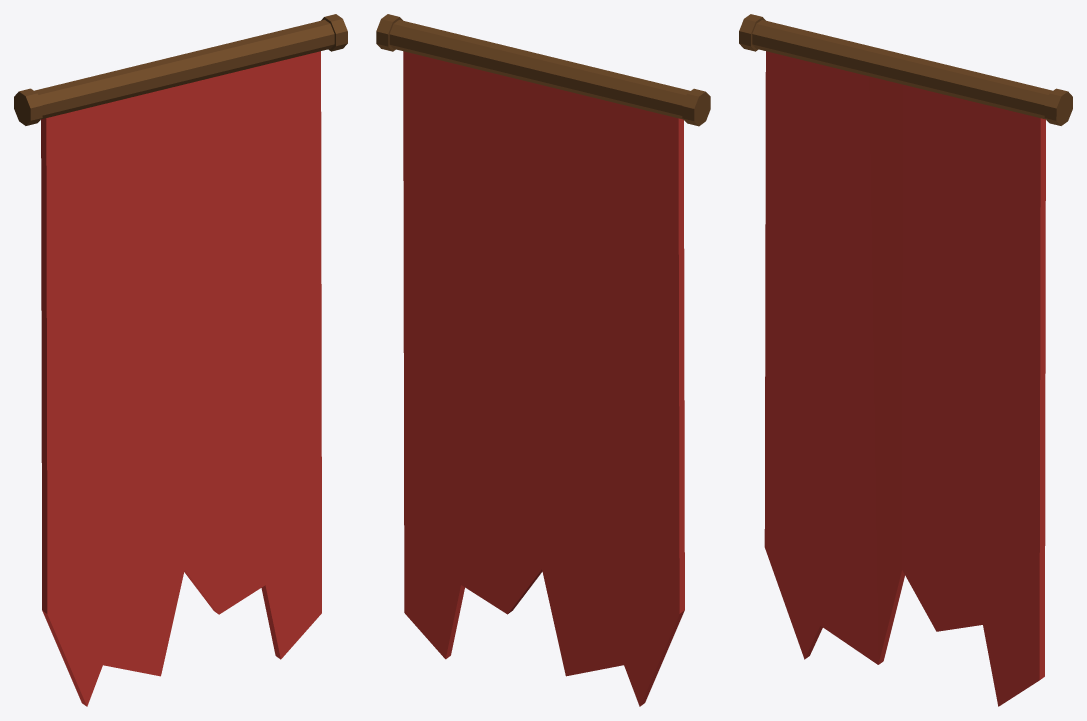
The model's file is Banner_2.fbx.
3 renders of one model, left to right at view 1: azimuth 30°, elevation 25°; view 2: azimuth 150°, elevation 25°; view 3: azimuth 330°, elevation 25°, orthographic.
Parts seen in each view (by area): view 1: bannière_2; view 2: bannière_2; view 3: bannière_2.
Boxes of the visible parts, box(x1,y1,x2,y2) form: bannière_2: box(14, 14, 347, 706); bannière_2: box(376, 14, 710, 706); bannière_2: box(739, 14, 1072, 706).
Bounding box in the file's own units: 120 × 227 × 10.84.
